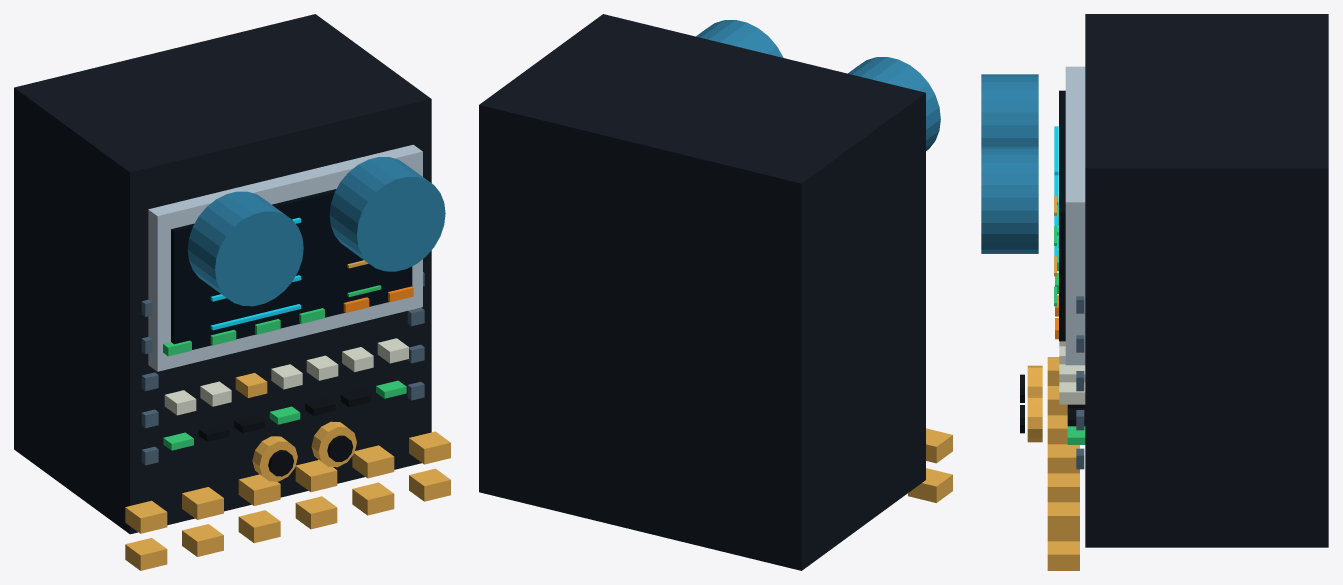
The model's file is 65_L92_TerrainStereoCameraB.fbx.
3 views of the same model, side by side, from view 1: azimuth 30°, elevation 25°; view 2: azimuth 150°, elevation 25°; view 3: azimuth 270°, elevation 25° (orthographic). The views are drawn at different scales.
Visible parts, largest first — view 1: L92_TerrainStereoCameraB, L92_TerrainStereoCameraB_Part_0011, L92_TerrainStereoCameraB_Part_0013; view 2: L92_TerrainStereoCameraB; view 3: L92_TerrainStereoCameraB, L92_TerrainStereoCameraB_Part_0013, L92_TerrainStereoCameraB_Part_0011.
Boxes of the visible parts, left/top/right/bottom form: L92_TerrainStereoCameraB: left=14, top=14, right=450, bottom=570; L92_TerrainStereoCameraB_Part_0011: left=252, top=436, right=297, bottom=481; L92_TerrainStereoCameraB_Part_0013: left=311, top=421, right=356, bottom=467; L92_TerrainStereoCameraB: left=479, top=14, right=952, bottom=570; L92_TerrainStereoCameraB: left=981, top=14, right=1328, bottom=570; L92_TerrainStereoCameraB_Part_0013: left=1027, top=396, right=1042, bottom=442; L92_TerrainStereoCameraB_Part_0011: left=1027, top=365, right=1042, bottom=395.
Bounding box in the file's own units: 105 × 124 × 97.
